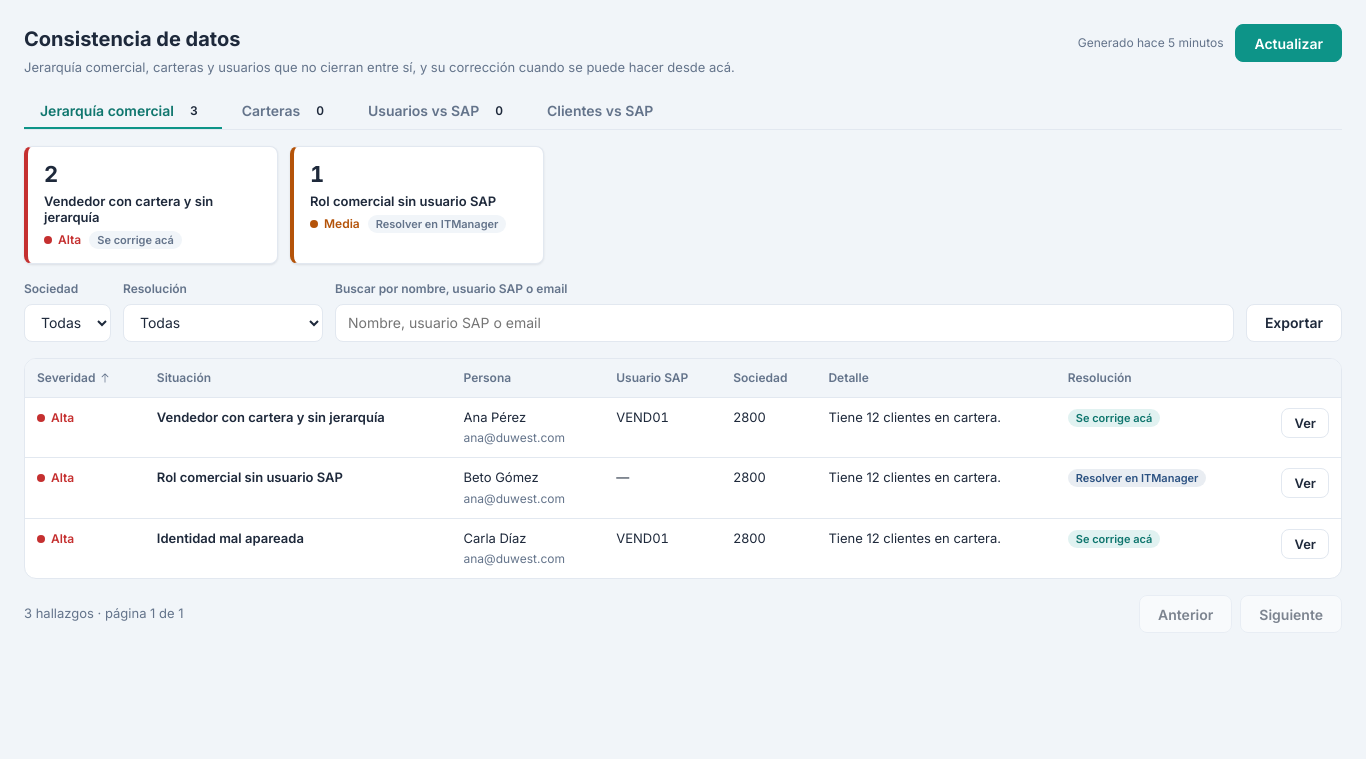
Test: ConsistencyPanel › el alta valida el motivo y postea el cuerpo con findingGroup
Expected: the text "Ana Pérez" is shown, top-left (464, 408), bottom-right (526, 424)
Click the button "Ver" in the row of "Ana Pérez": (1305, 422) top-left (1281, 408), bottom-right (1329, 438)
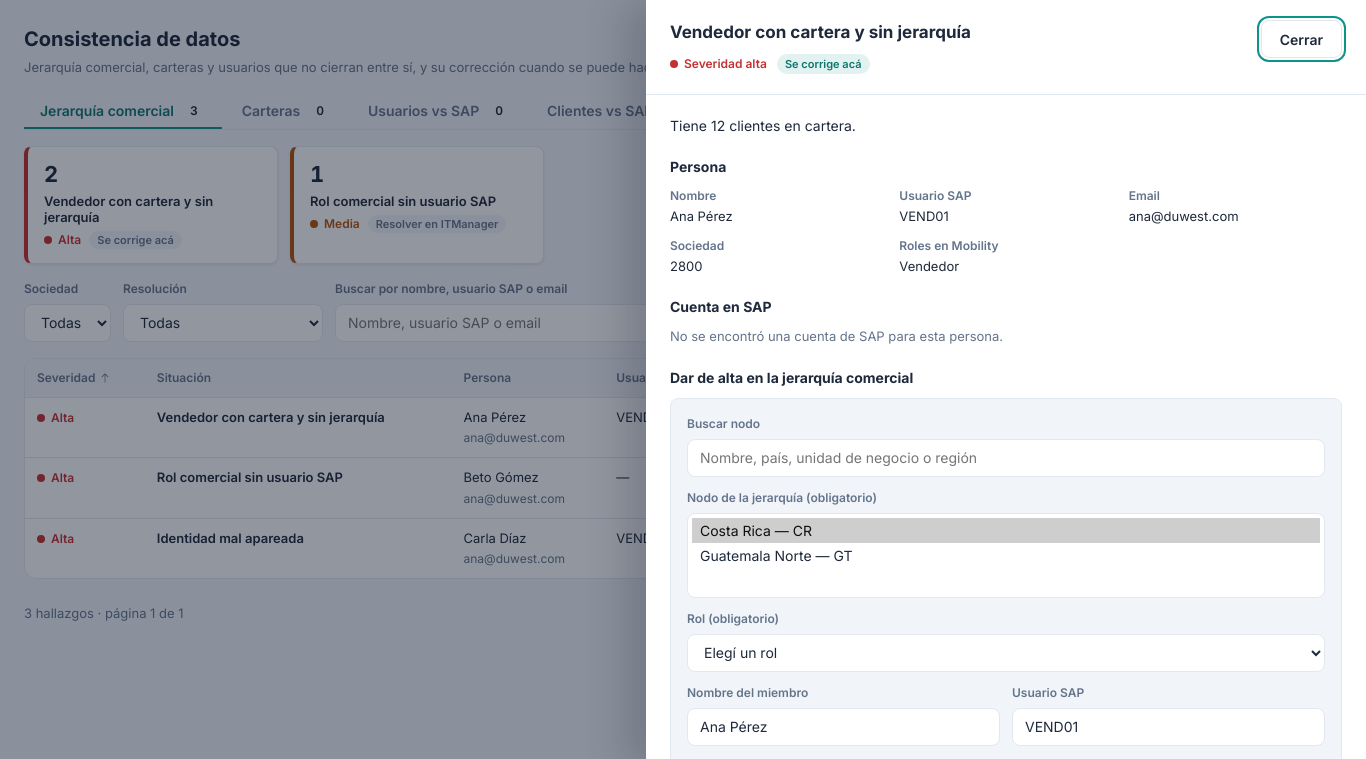
Expected: the dropdown labelled "Nodo de la jerarquía (obligatorio)" is shown
Select "Guatemala Norte — GT" in the dropdown labelled "Nodo de la jerarquía (obligatorio)": (1006, 555) top-left (687, 512), bottom-right (1325, 598)
Select "Vendedor" in the dropdown labelled "Rol (obligatorio)": (1006, 652) top-left (687, 634), bottom-right (1325, 672)
(page scrolled)
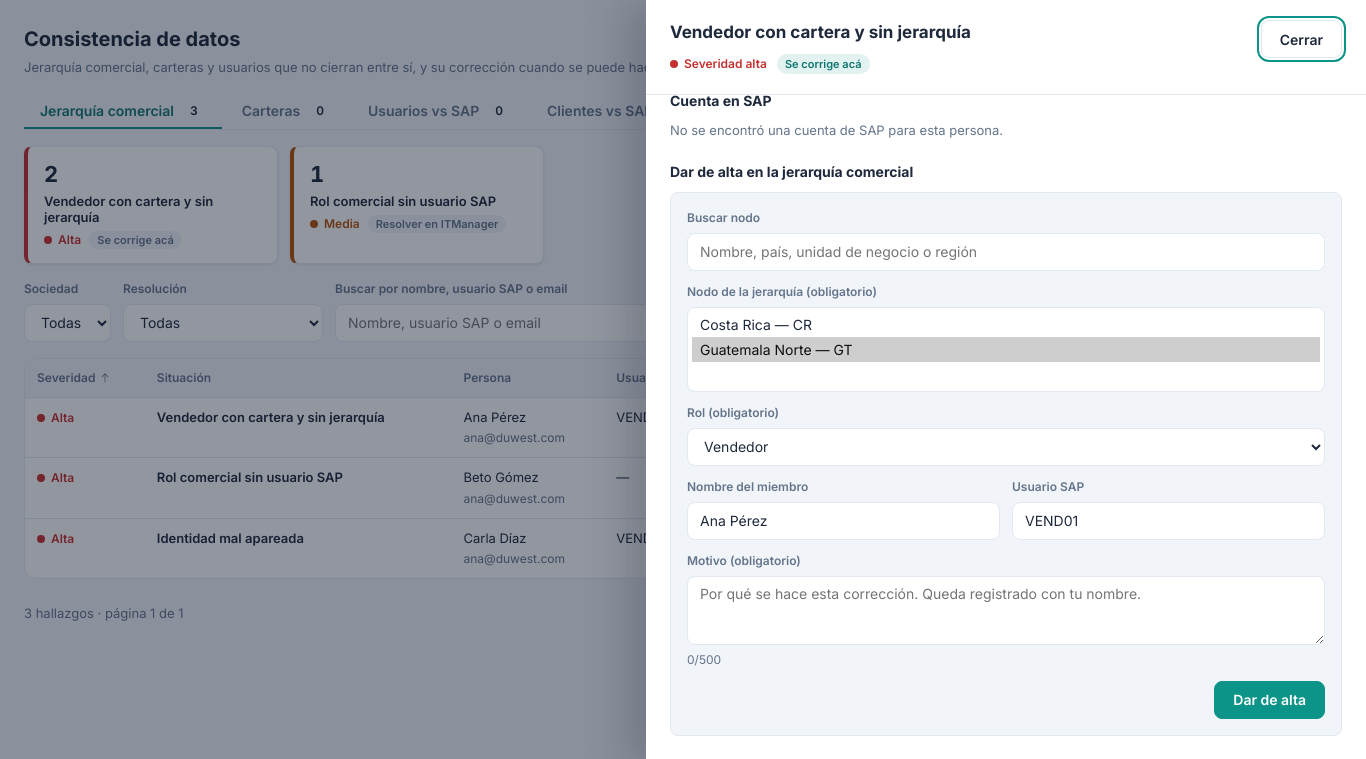
Replace the text in the text box labelled "Motivo (obligatorio)" with "abc": (1006, 610) top-left (687, 576), bottom-right (1325, 644)
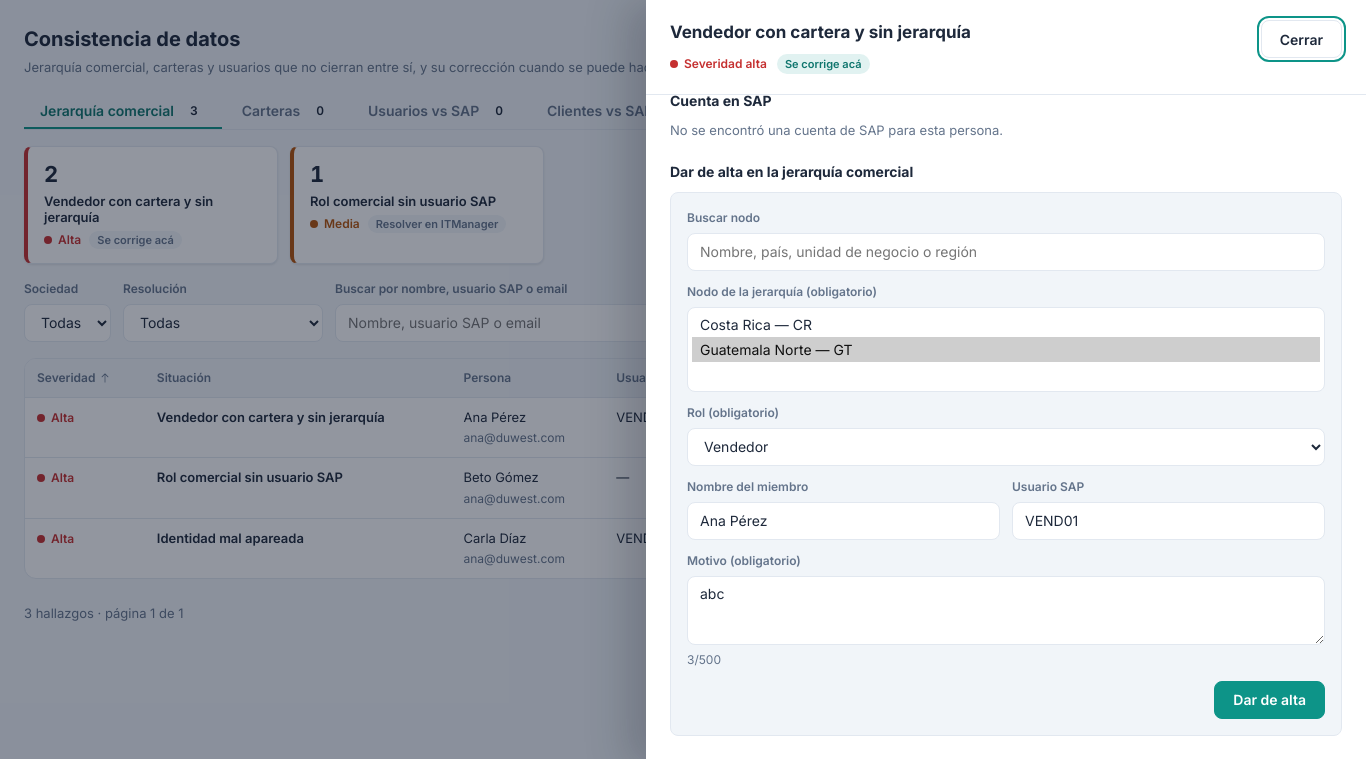
Click the button "Dar de alta": (1270, 700) top-left (1214, 680), bottom-right (1325, 718)
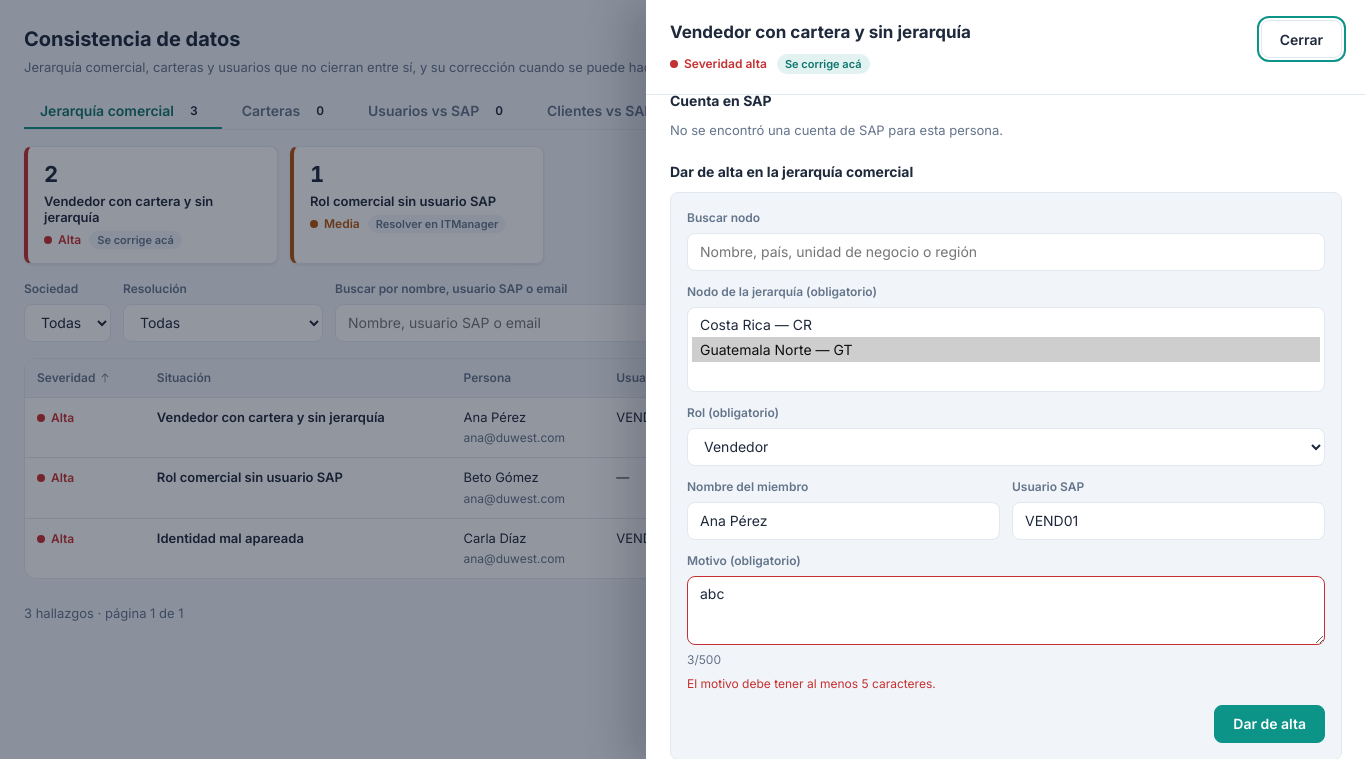
Expected: the text "El motivo debe tener al menos 5 caracteres." is shown, top-left (687, 676), bottom-right (936, 690)
Replace the text in the text box labelled "Motivo (obligatorio)" with "Falta en la jerarquía de Guatemala": (1006, 610) top-left (687, 576), bottom-right (1325, 644)
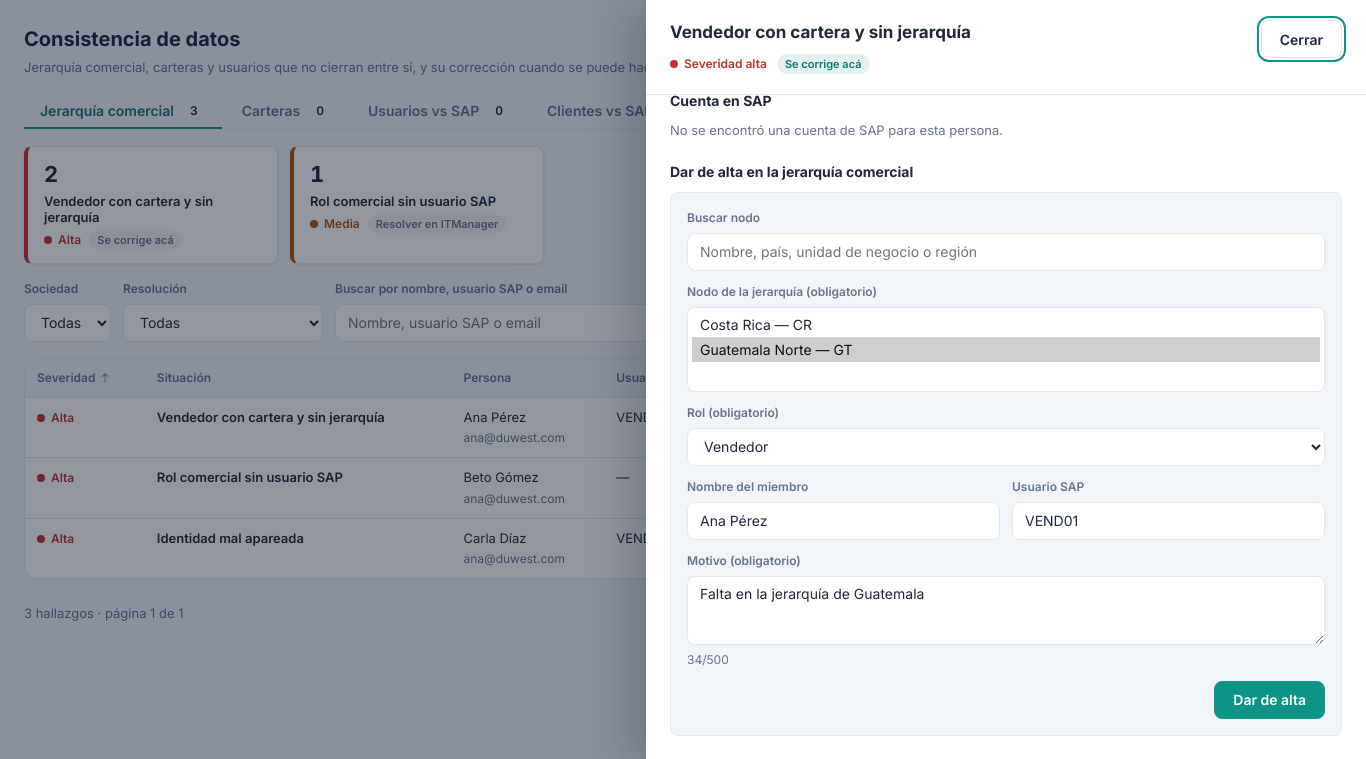
Click the button "Dar de alta": (1270, 700) top-left (1214, 680), bottom-right (1325, 718)
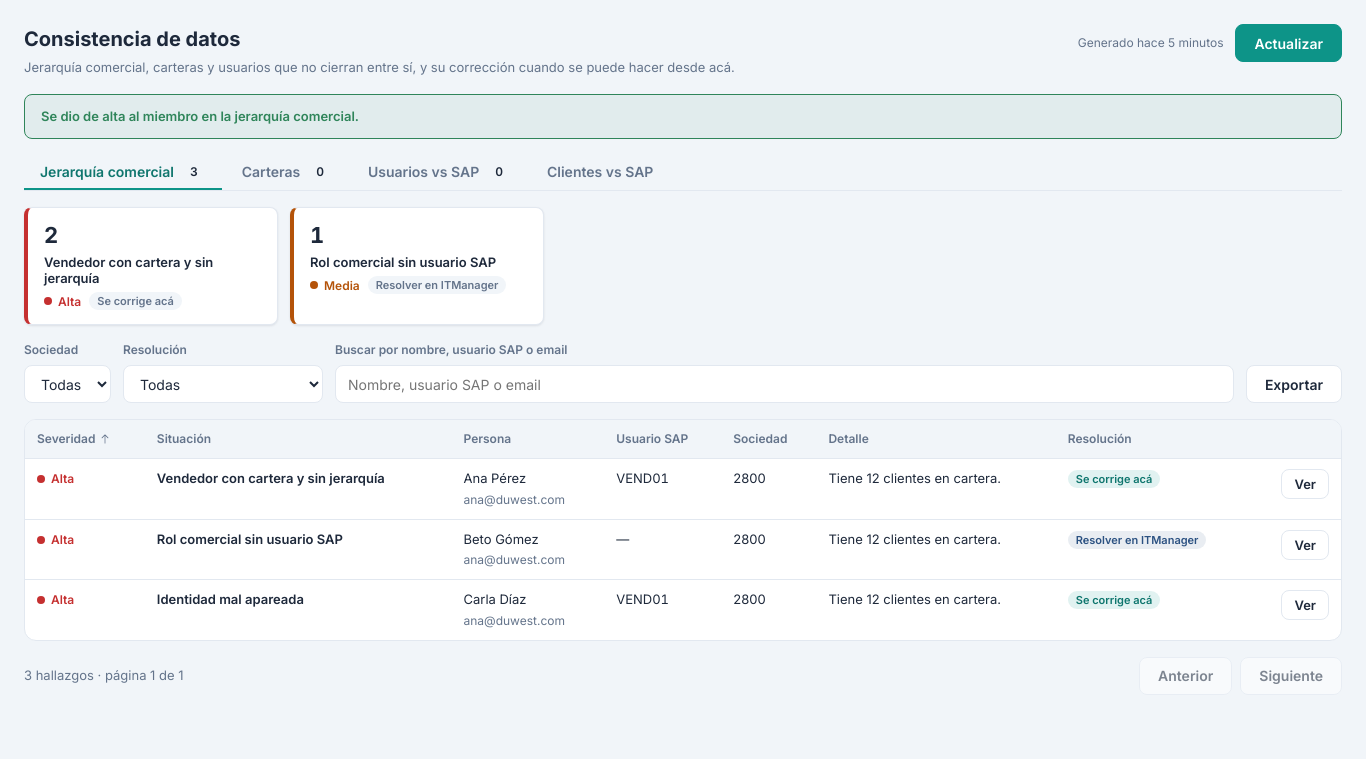
Expected: the text "Se dio de alta al miembro en la jerarquía comercial." is shown, top-left (24, 94), bottom-right (1342, 139)
